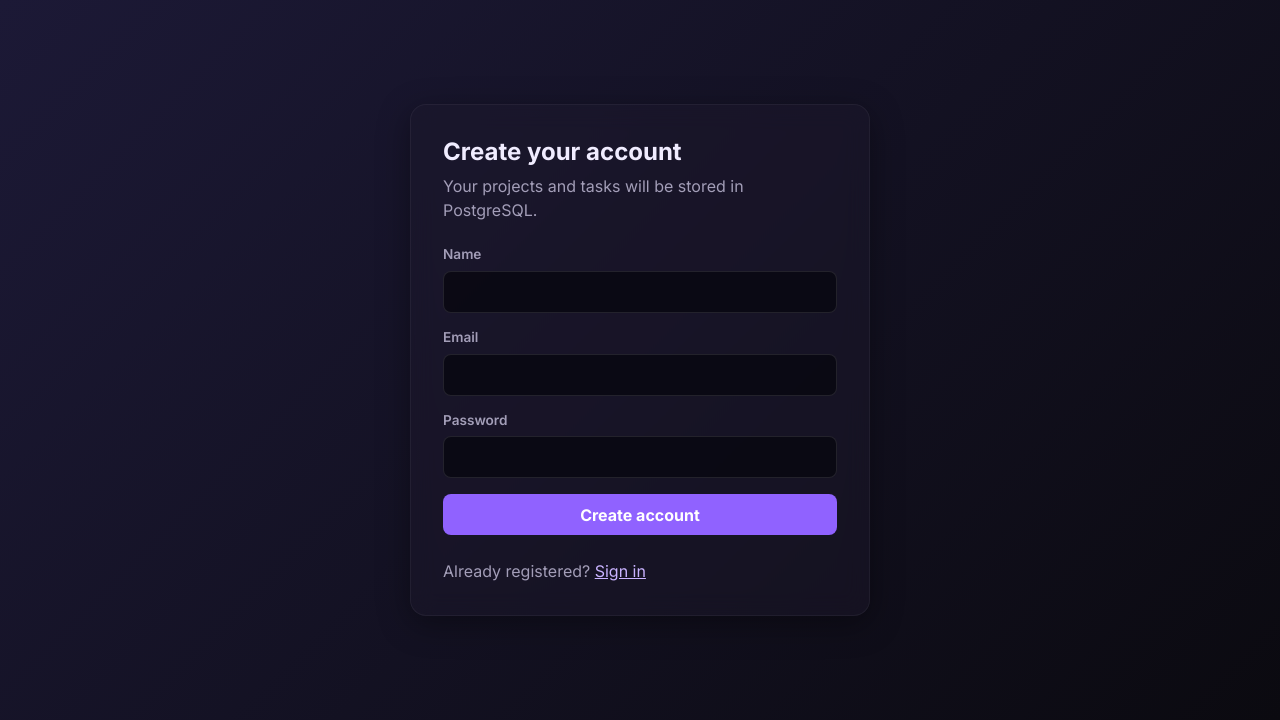
Test: Phase 3 application › validates and submits the registration form
Click the button "Create account" at (640, 515), box [443,494,837,535]
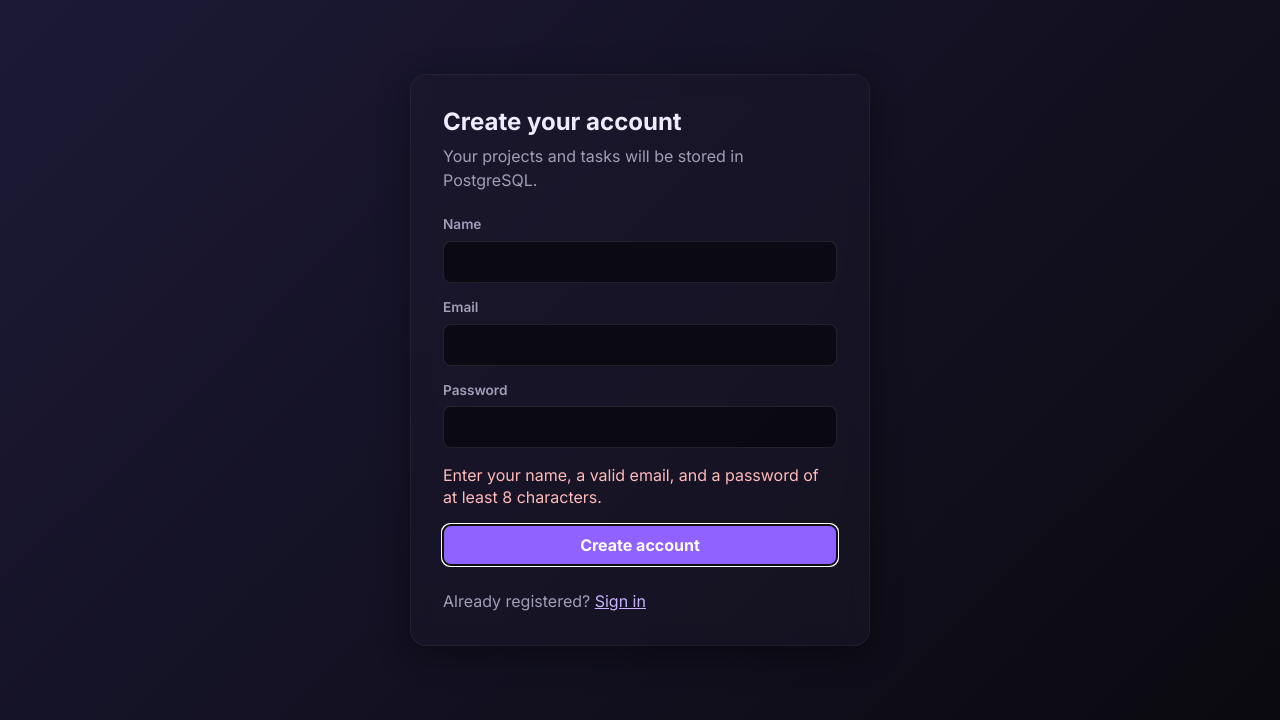
Now the message shows "at least 8", box [443,465,819,507]
Type "Sanjay" into the field labelled "Name" at (640, 261), box [443,240,837,282]
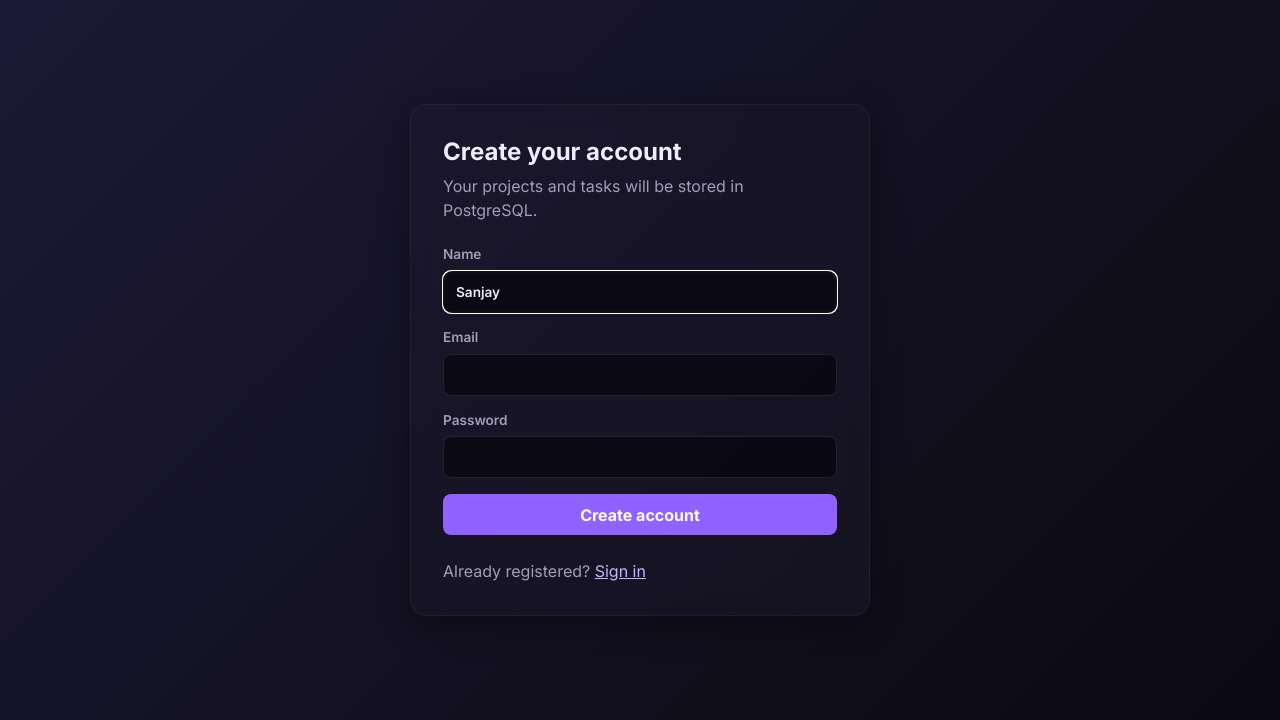
Type "sanjay@example.com" into the field labelled "Email" at (640, 374), box [443,354,837,396]
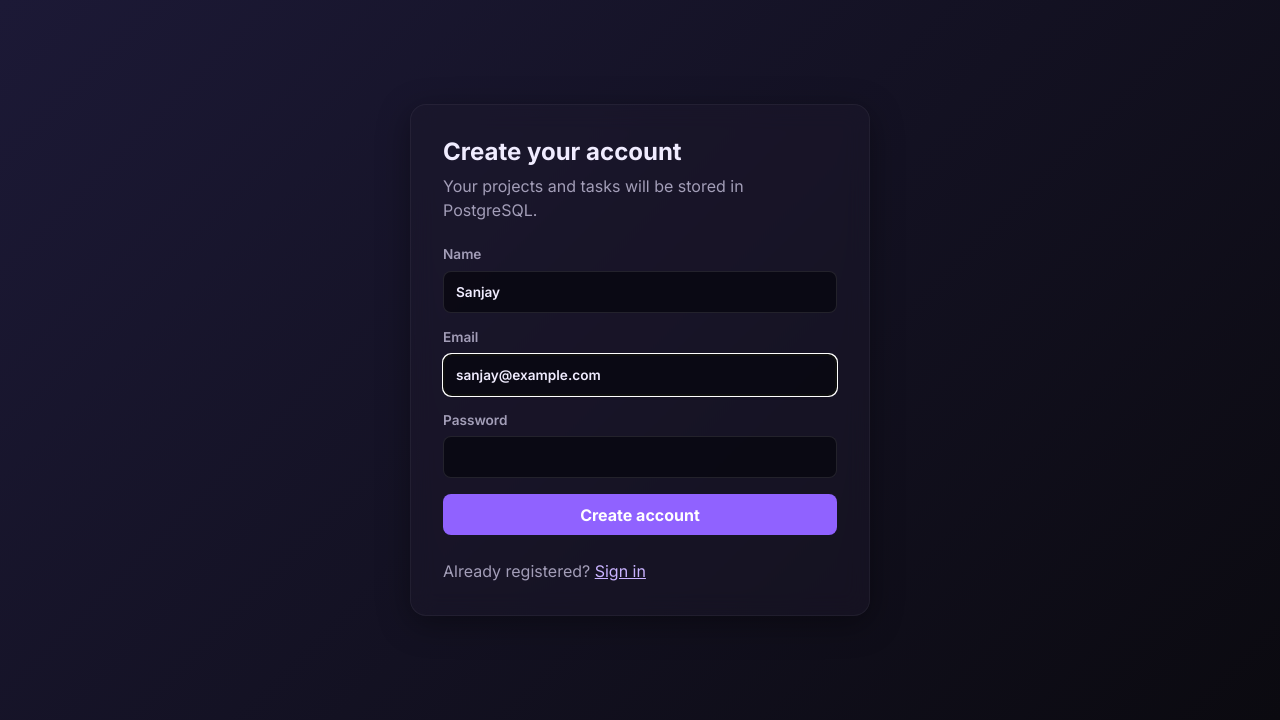
Type "password123" into the password field labelled "Password" at (640, 457), box [443,436,837,478]
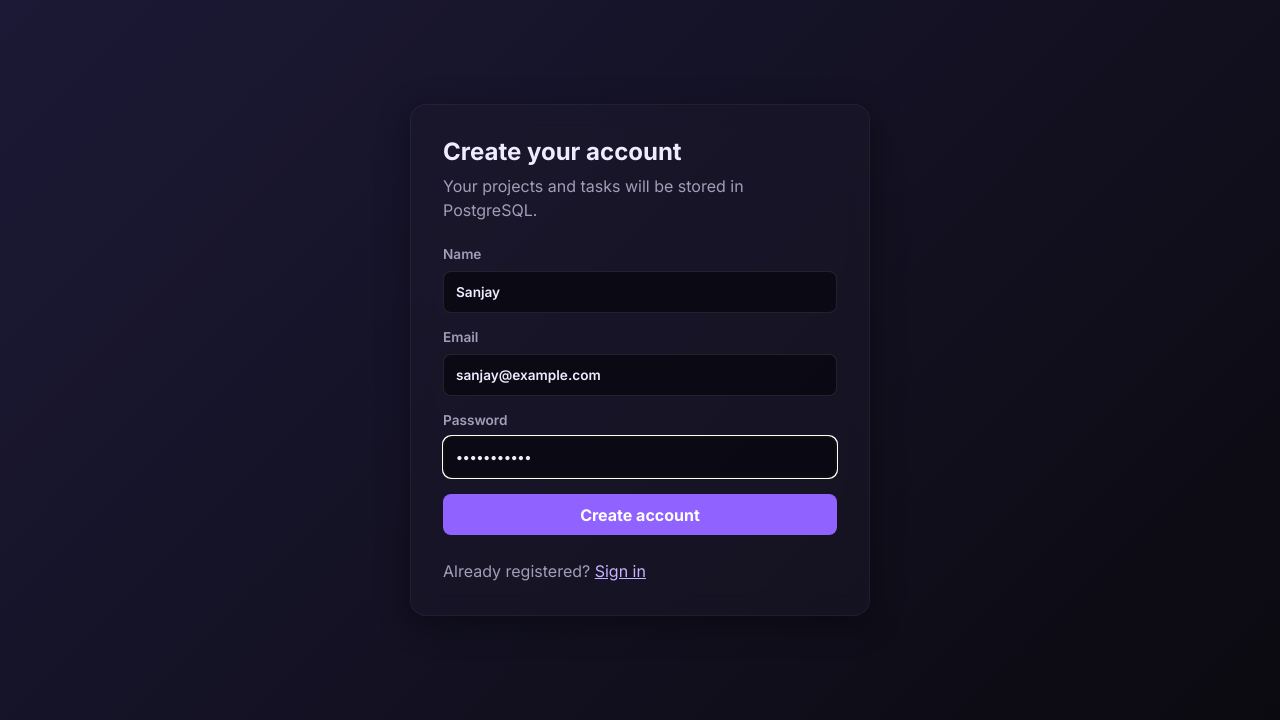
Click the button "Create account" at (640, 515), box [443,494,837,535]
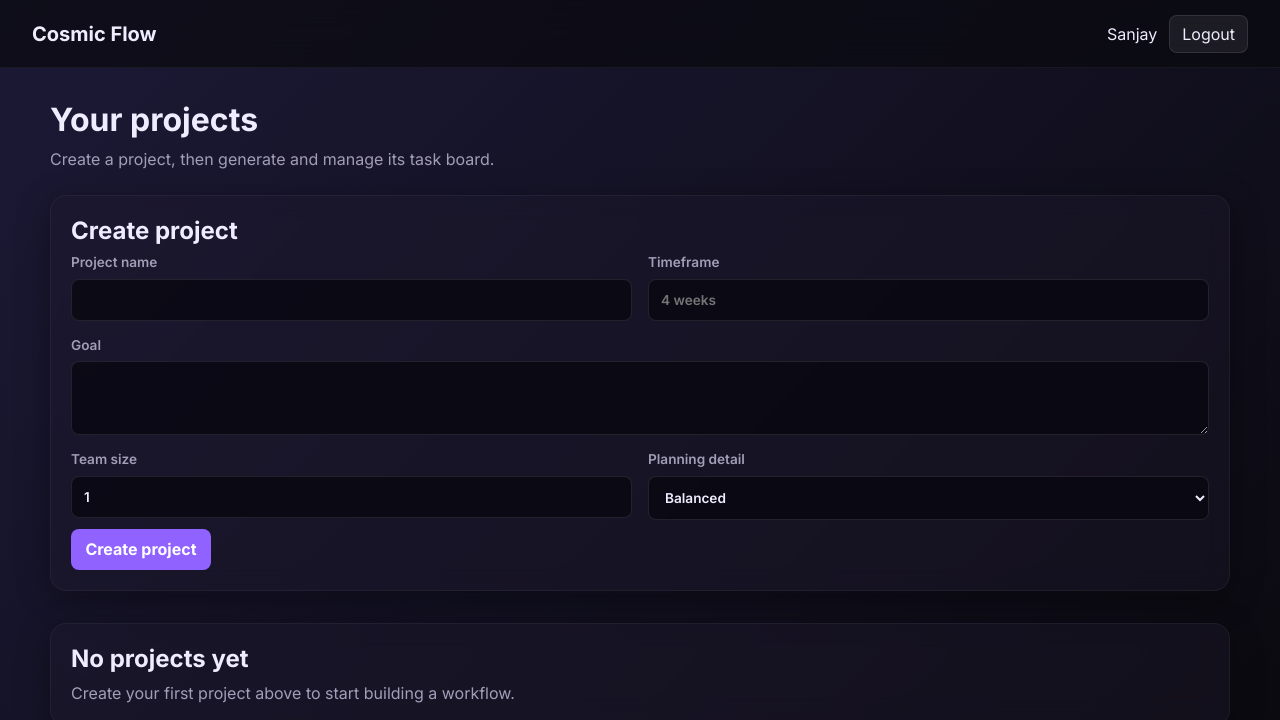
Now the heading "Your projects" is shown, box [50,100,258,139]
